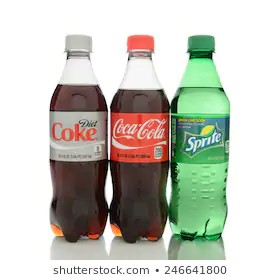coke-bottle-700ml: (108, 33, 174, 242)
coke-diet/zero-bottle-700ml: (50, 34, 114, 241)
